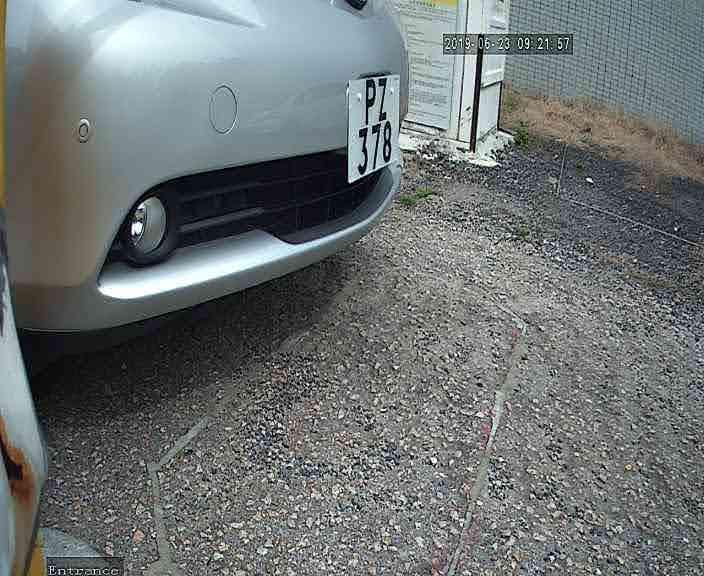privatecar: (2, 3, 418, 349)
